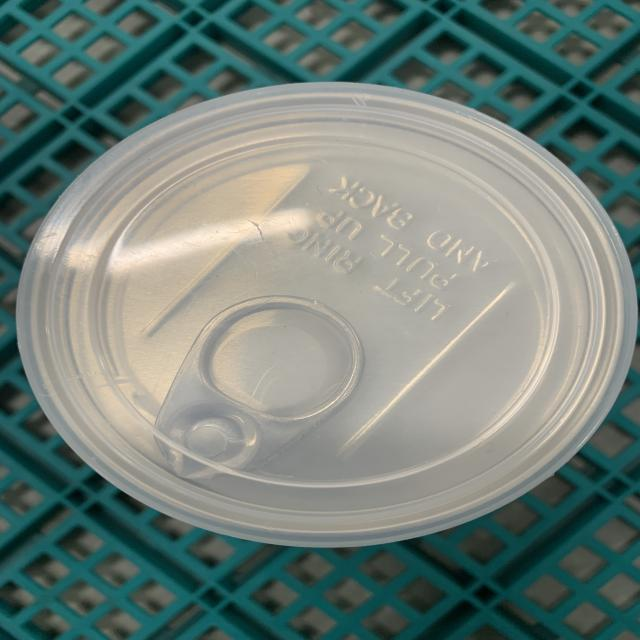object_name: (36, 96, 639, 543)
